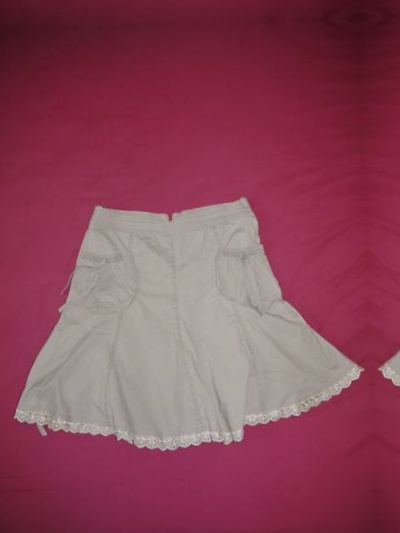Dress: (0, 130, 375, 477), (362, 116, 400, 463)
